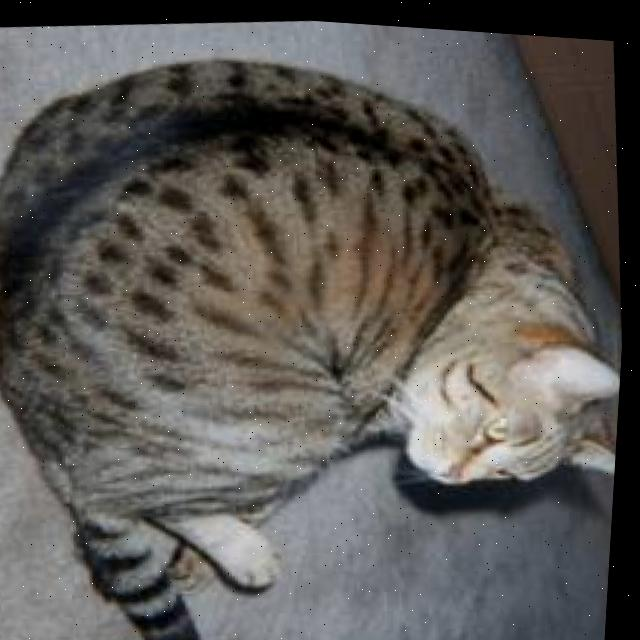Egyptian Mau: (0, 6, 640, 640)
